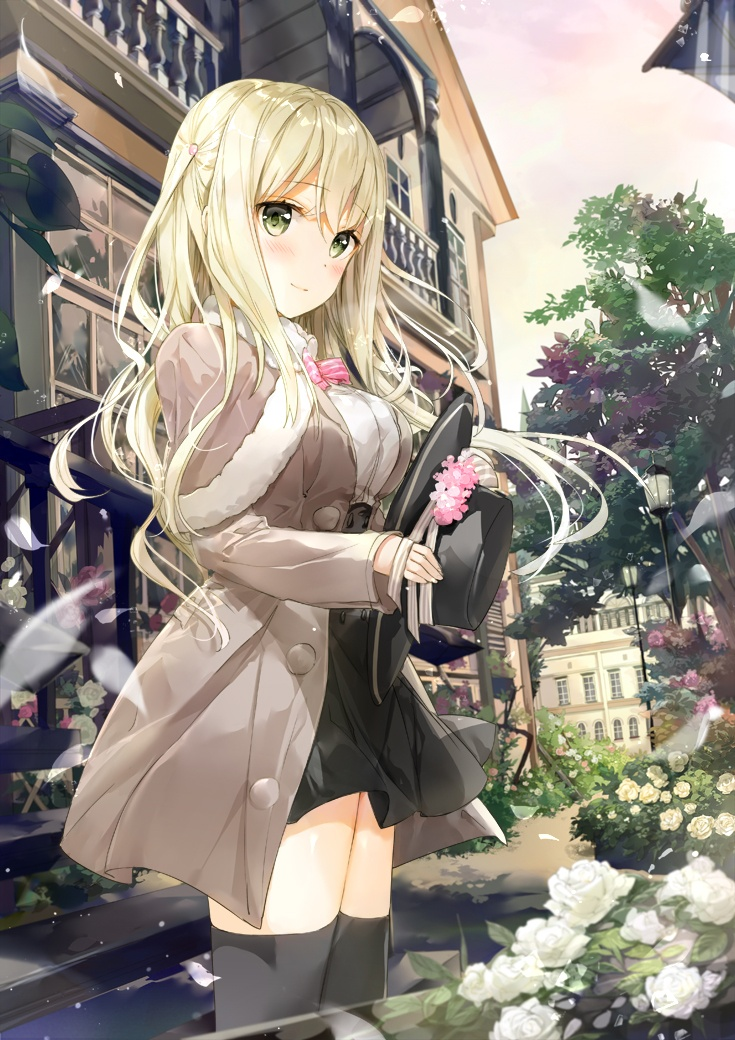纸片人正脸: (142, 69, 398, 329)
